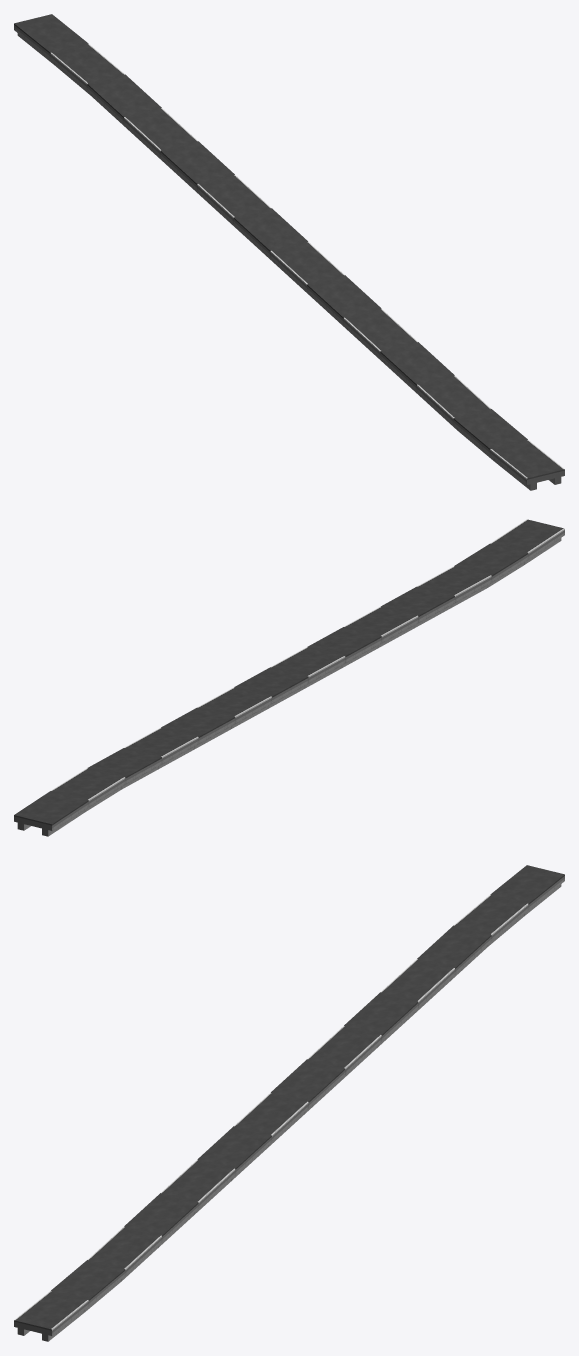
Rendered from 高速道路_勾配_3m×70m×6m_中下り.fbx.
3 views of the same model, one above another, from view 1: azimuth 30°, elevation 25°; view 2: azimuth 150°, elevation 25°; view 3: azimuth 330°, elevation 25° (orthographic).
Parts seen in each view (by area): view 1: 道路, 高架橋; view 2: 道路, 高架橋; view 3: 道路, 高架橋.
Boxes of the visible parts, x1,y1,x2,y2 form: 道路: (14,14,564,479); 高架橋: (14,25,564,490); 道路: (14,519,564,825); 高架橋: (14,530,564,836); 道路: (14,865,564,1330); 高架橋: (14,876,564,1341).
Bounding box in the file's own units: 3 × 7 × 70.
